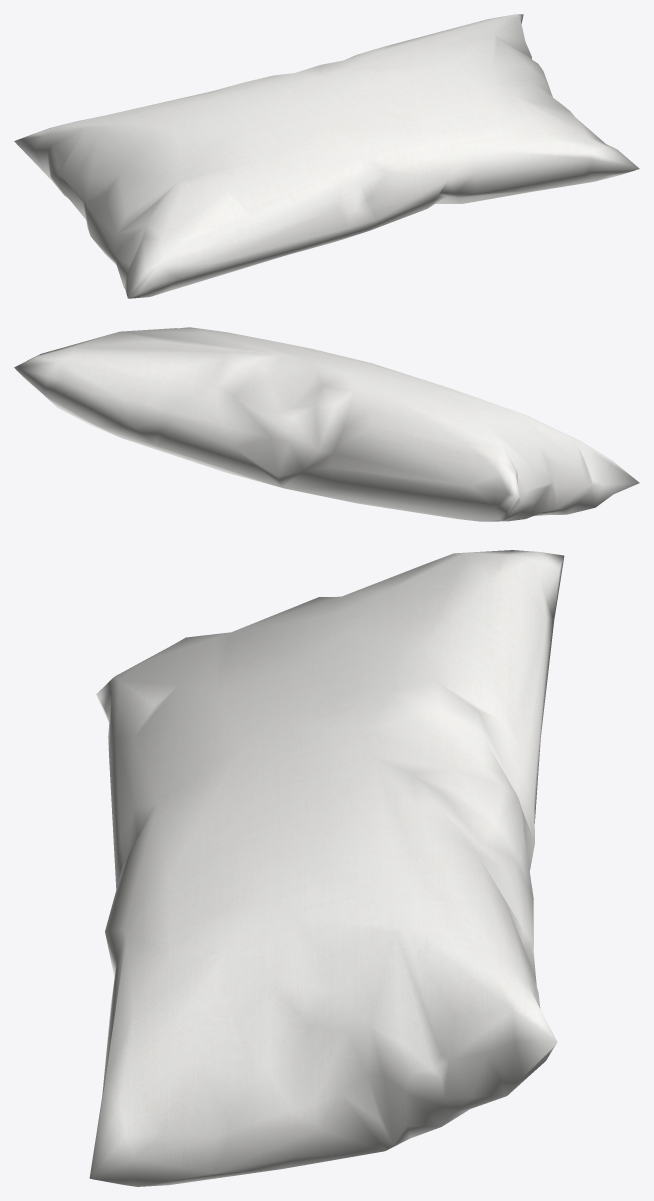
The model's file is Pillow.fbx.
3 renders of one model, top to bottom at view 1: azimuth 30°, elevation 25°; view 2: azimuth 150°, elevation 25°; view 3: azimuth 270°, elevation 25°, orthographic. The views are drawn at different scales.
Visible parts, largest first — view 1: Pillow; view 2: Pillow; view 3: Pillow.
Part boxes in pixels (box(x1,y1,x2,y2)): Pillow: box(14, 14, 639, 298); Pillow: box(14, 327, 639, 521); Pillow: box(89, 550, 564, 1186).
Bounding box in the file's own units: 69.72 × 16.16 × 28.08.
Materials: 1 (1 with a texture image).
